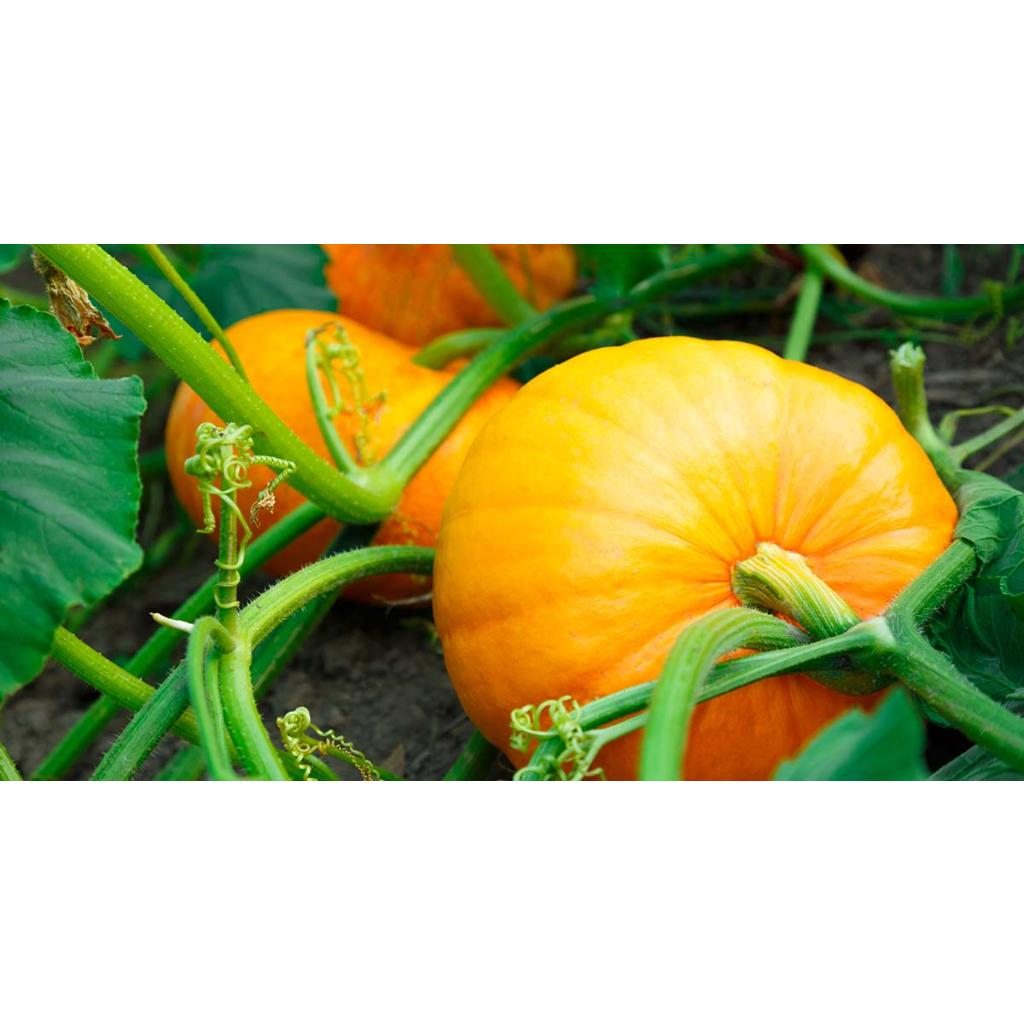pumpkin: (434, 337, 958, 750), (226, 309, 466, 462), (374, 377, 520, 546), (324, 243, 502, 345), (686, 677, 848, 778), (166, 383, 218, 523), (491, 243, 576, 309), (264, 517, 340, 576), (344, 573, 432, 605), (333, 359, 360, 456), (254, 485, 302, 534)
